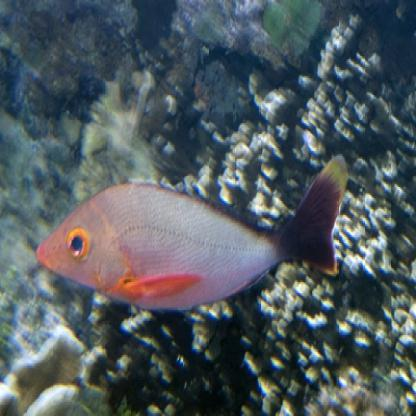snapper: (34, 151, 358, 313)
